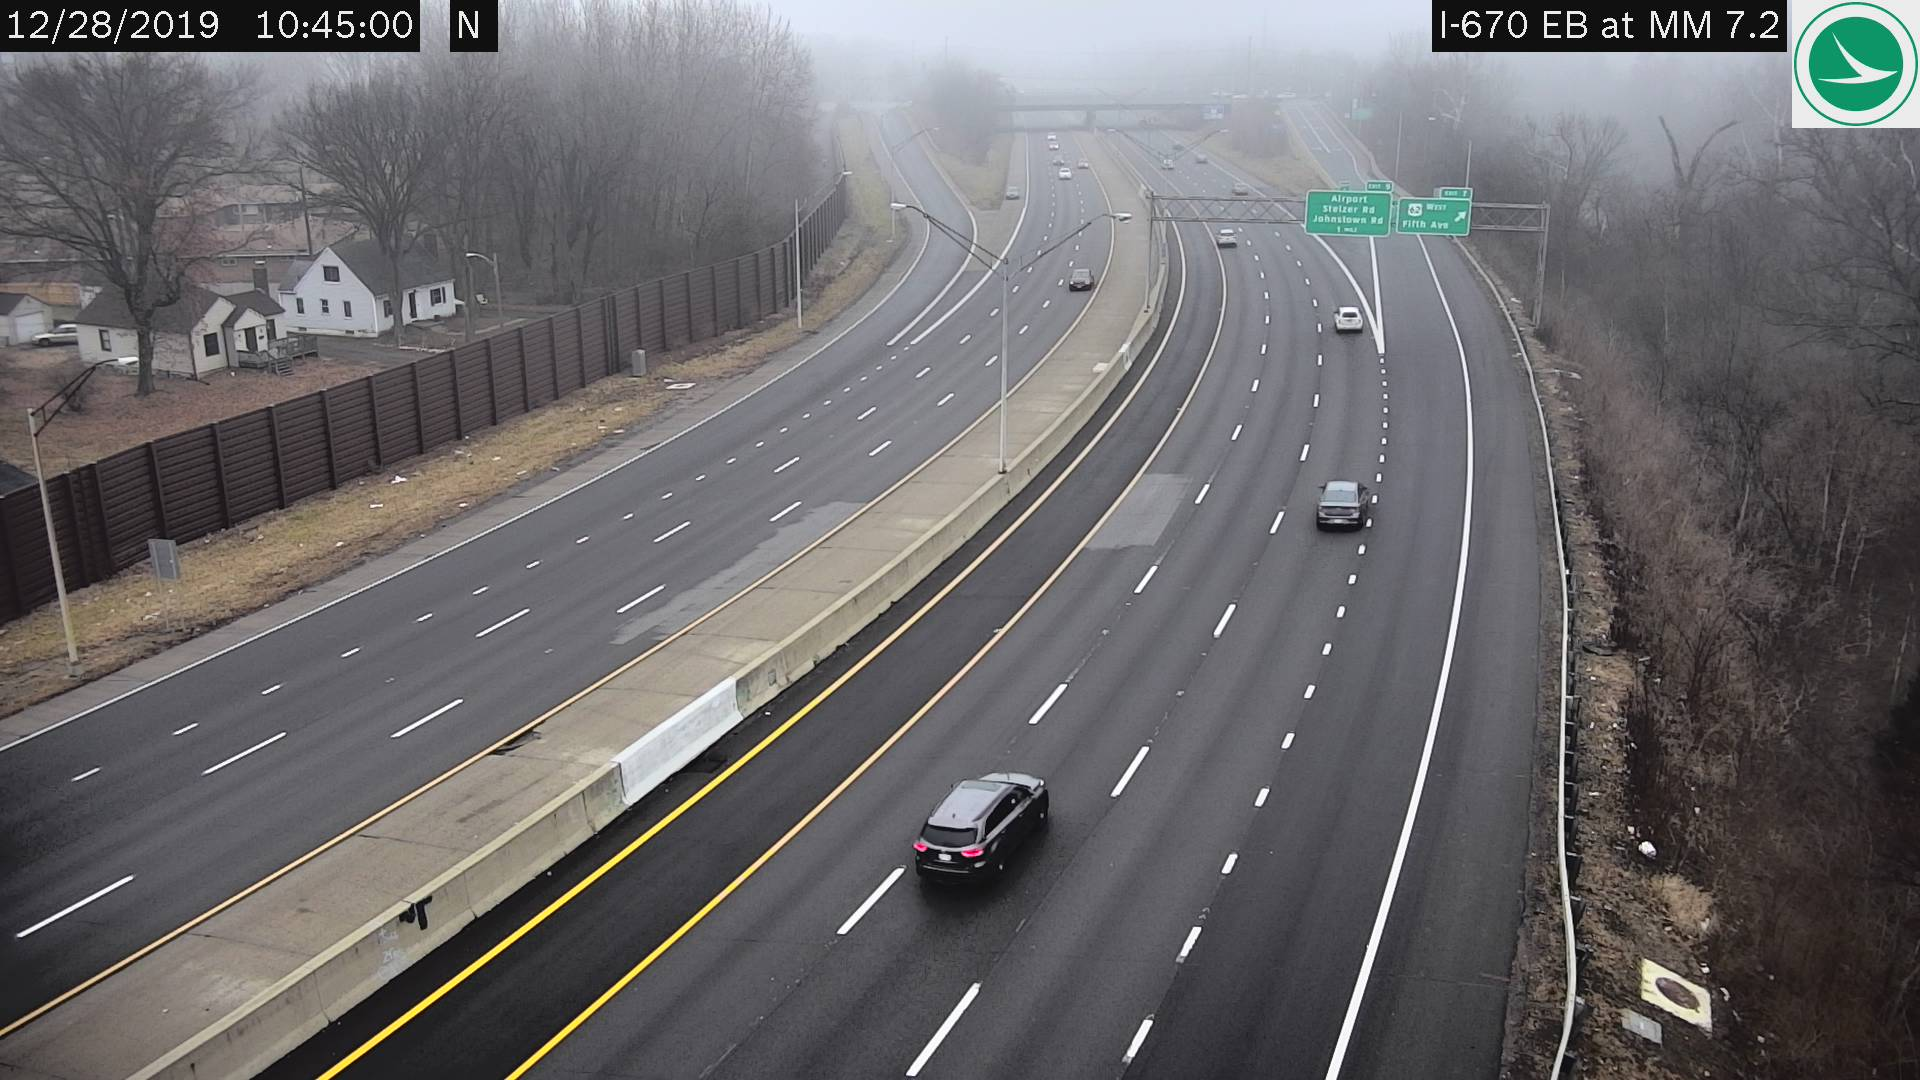car: (914, 771, 1046, 887), (1317, 480, 1370, 527), (1335, 305, 1362, 328), (1069, 264, 1095, 284), (1218, 228, 1234, 244)
